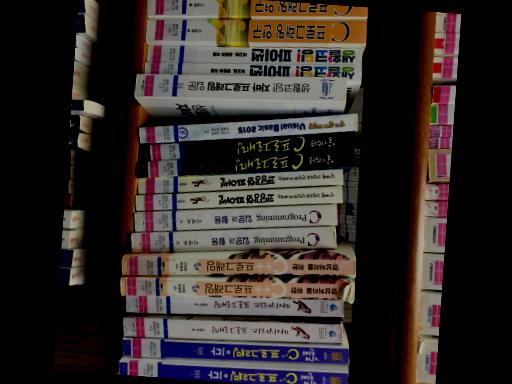book-spine: (138, 131, 355, 162), (137, 114, 356, 143), (135, 149, 354, 178), (133, 75, 346, 103), (121, 339, 347, 365), (121, 318, 341, 344), (132, 205, 337, 232), (133, 186, 341, 212), (137, 168, 342, 194), (130, 227, 335, 253), (144, 19, 365, 43), (120, 256, 354, 278), (120, 278, 352, 300), (117, 362, 347, 384), (124, 297, 342, 318), (142, 62, 360, 82), (145, 45, 361, 65), (146, 0, 366, 18)
